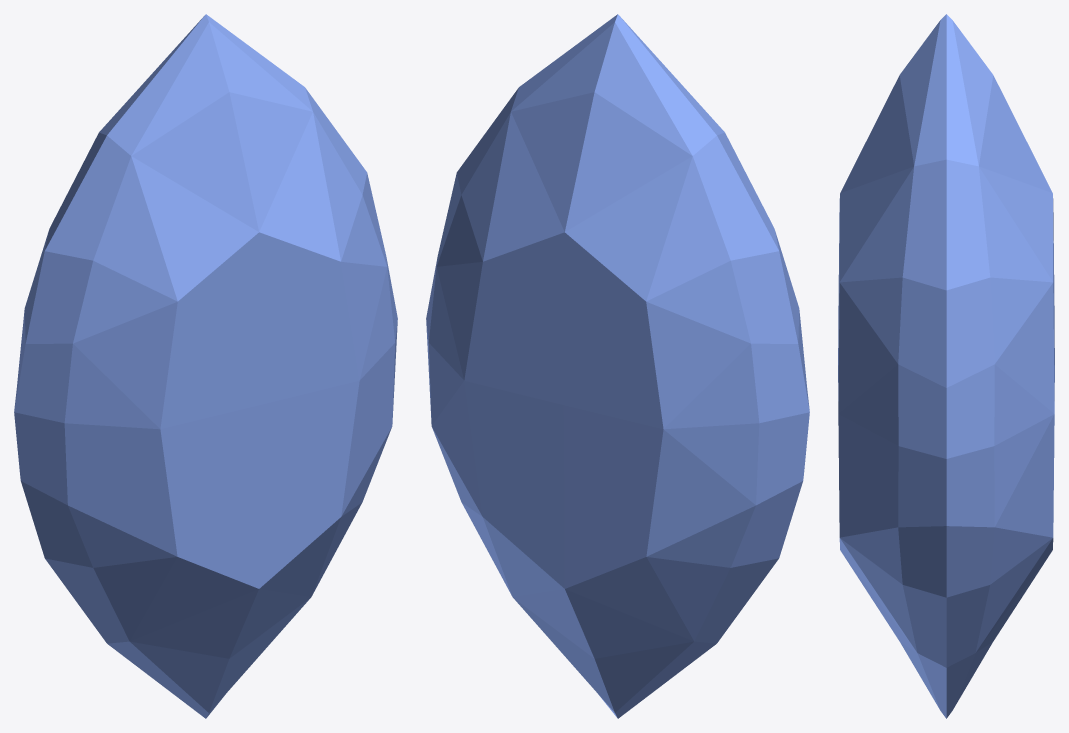
The model's file is memory shard.fbx.
3 renders of one model, left to right at view 1: azimuth 30°, elevation 25°; view 2: azimuth 150°, elevation 25°; view 3: azimuth 270°, elevation 25°, orthographic.
Parts seen in each view (by area): view 1: Memory_Shard; view 2: Memory_Shard; view 3: Memory_Shard.
Boxes of the visible parts, x1,y1,x2,y2 form: Memory_Shard: [14, 14, 397, 718]; Memory_Shard: [426, 14, 809, 718]; Memory_Shard: [838, 14, 1054, 718].
Bounding box in the file's own units: 11.26 × 19.77 × 5.51.
